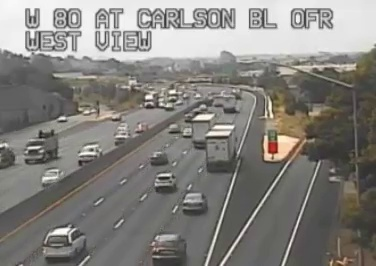car: (42, 227, 86, 259), (152, 234, 185, 262), (182, 192, 206, 212), (154, 173, 176, 190), (149, 152, 167, 164)
truck: (205, 123, 235, 170), (192, 114, 215, 147)
